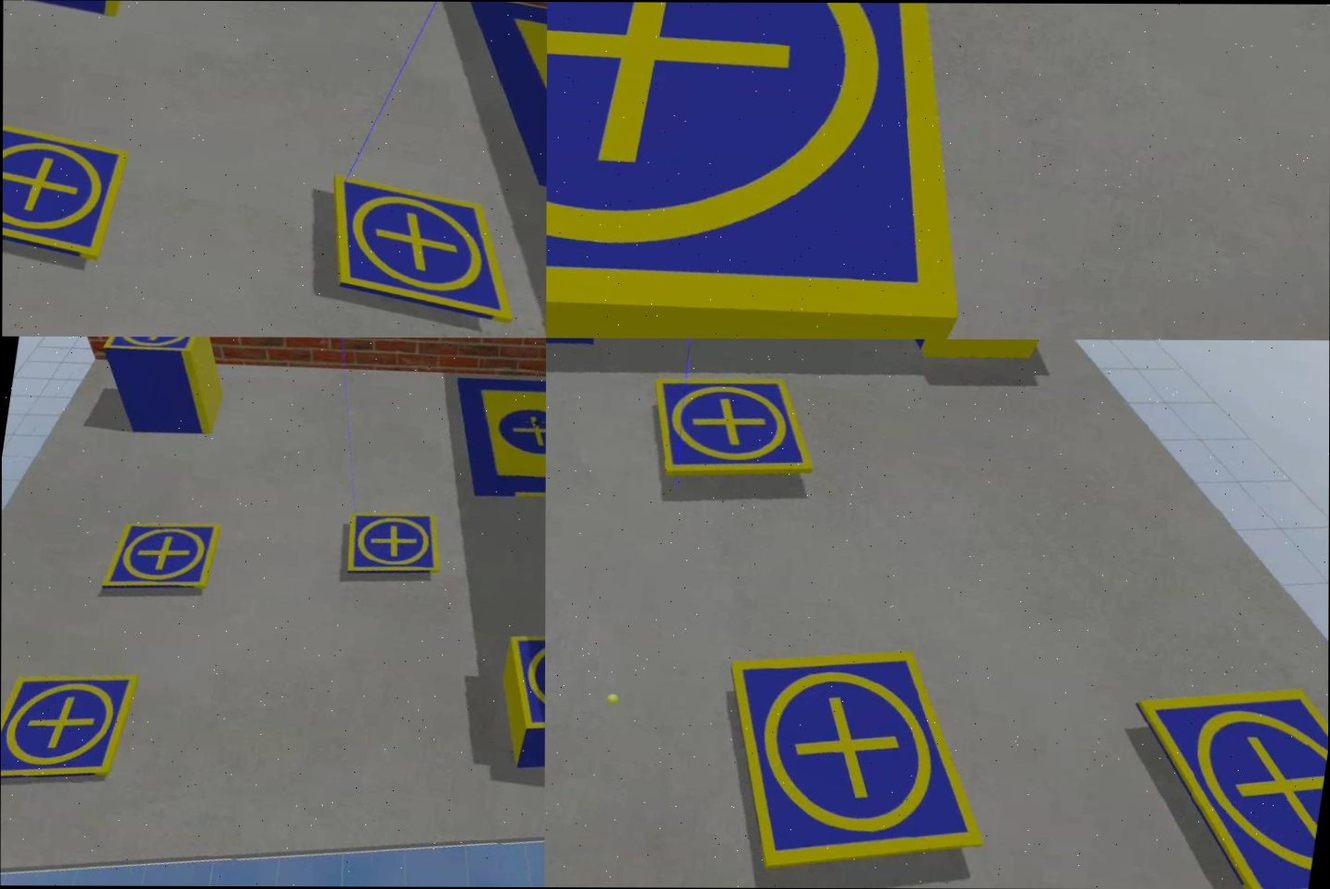large_base: (442, 2, 547, 227), (443, 363, 546, 518)
small_base: (546, 2, 1020, 339), (703, 623, 1013, 888), (1106, 663, 1327, 889), (318, 175, 532, 330), (640, 360, 826, 498), (1, 654, 137, 800), (3, 116, 127, 263), (101, 508, 220, 606), (336, 506, 444, 589), (498, 621, 545, 746), (102, 337, 207, 362)
